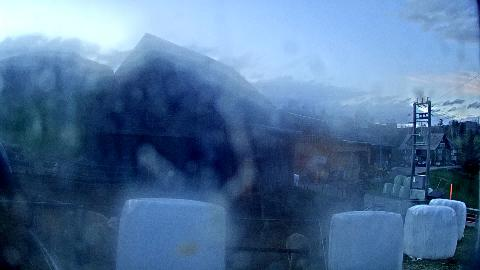car: (418, 161, 426, 167)
sheep: (63, 208, 110, 244), (284, 232, 312, 270), (82, 222, 110, 255)
